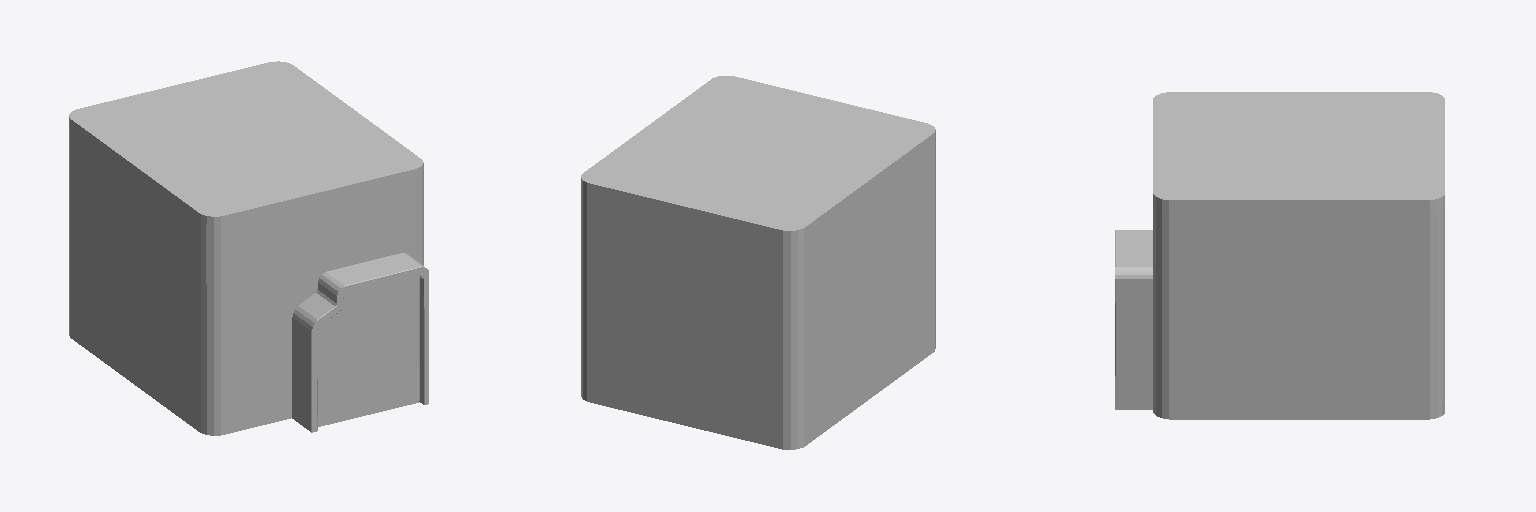
The model's file is Building_UV_0010.obj.
The picture shows the model from 3 angles: view 1: azimuth 30°, elevation 25°; view 2: azimuth 150°, elevation 25°; view 3: azimuth 270°, elevation 25°; orthographic projection.
Visible parts, largest first — view 1: Building_UV_00010; view 2: Building_UV_00010; view 3: Building_UV_00010.
Boxes of the visible parts, x1=… form: Building_UV_00010: x1=69, y1=61, x2=428, y2=435; Building_UV_00010: x1=581, y1=76, x2=935, y2=449; Building_UV_00010: x1=1115, y1=92, x2=1444, y2=419.
Bounding box in the file's own units: 635 × 600 × 819.